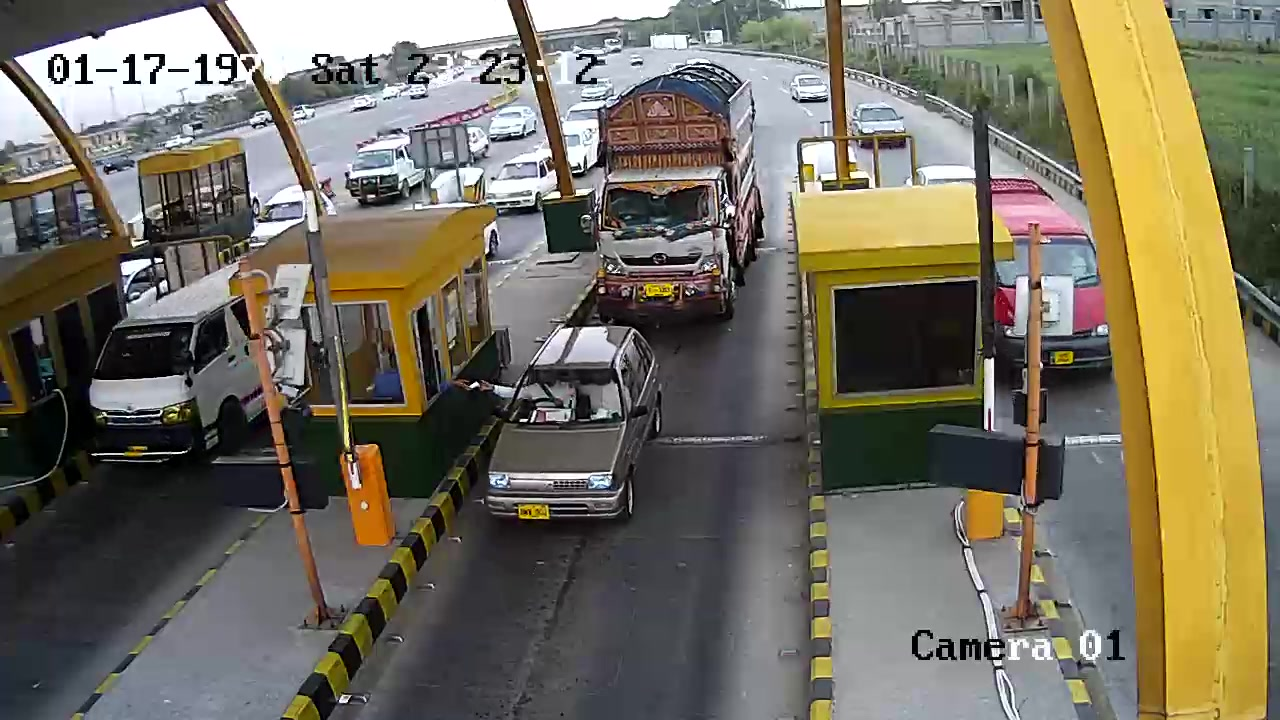F5: (604, 64, 759, 316)
